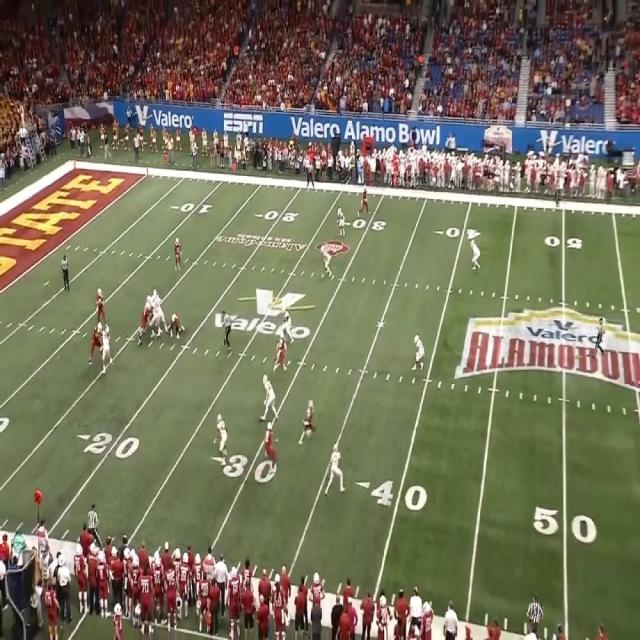db: (262, 375, 276, 423), (330, 444, 342, 491), (416, 335, 426, 373), (470, 238, 480, 274), (322, 245, 332, 276), (337, 207, 344, 238)
lb: (218, 415, 229, 461), (282, 308, 293, 342)
qb: (95, 288, 106, 322)
skill: (266, 424, 280, 478), (278, 330, 290, 371), (302, 401, 314, 441), (358, 190, 368, 218), (176, 237, 184, 270), (596, 626, 610, 638)
